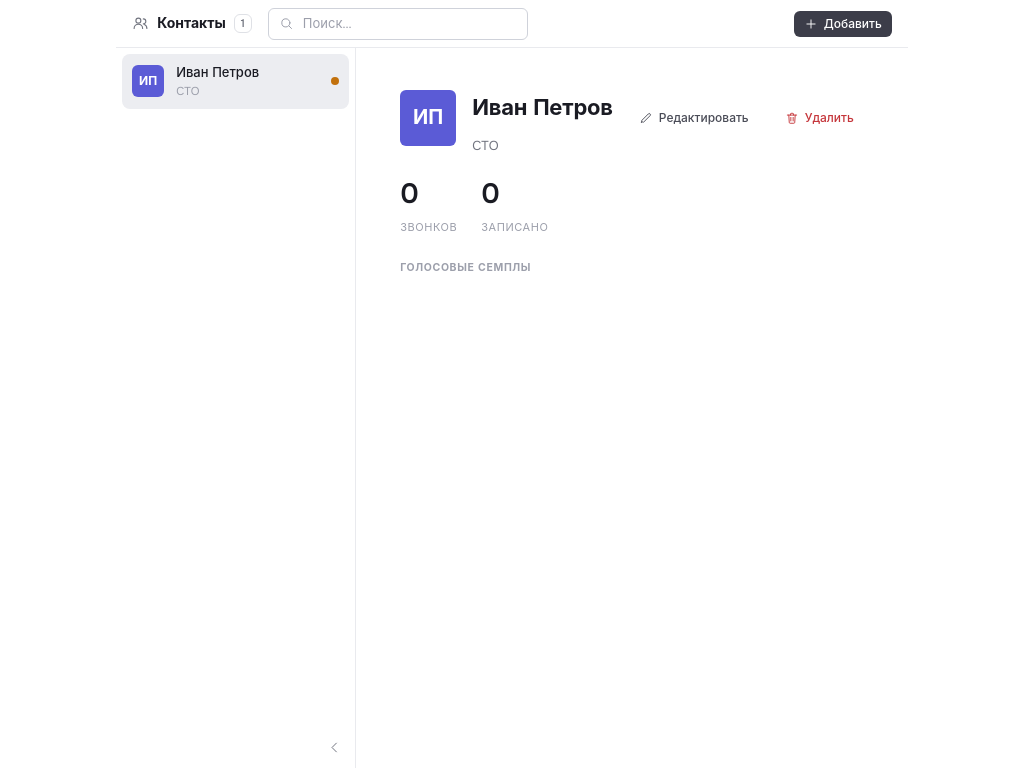
ContactsPage › add button opens dialog «Новый контакт»; no inline form in detail pane
This screenshot has width=1024, height=768.
Check: the text "Иван Петров" is shown, box [176, 64, 259, 81]
Click the button with aria-label "Добавить контакт": (843, 24) [794, 10, 892, 36]
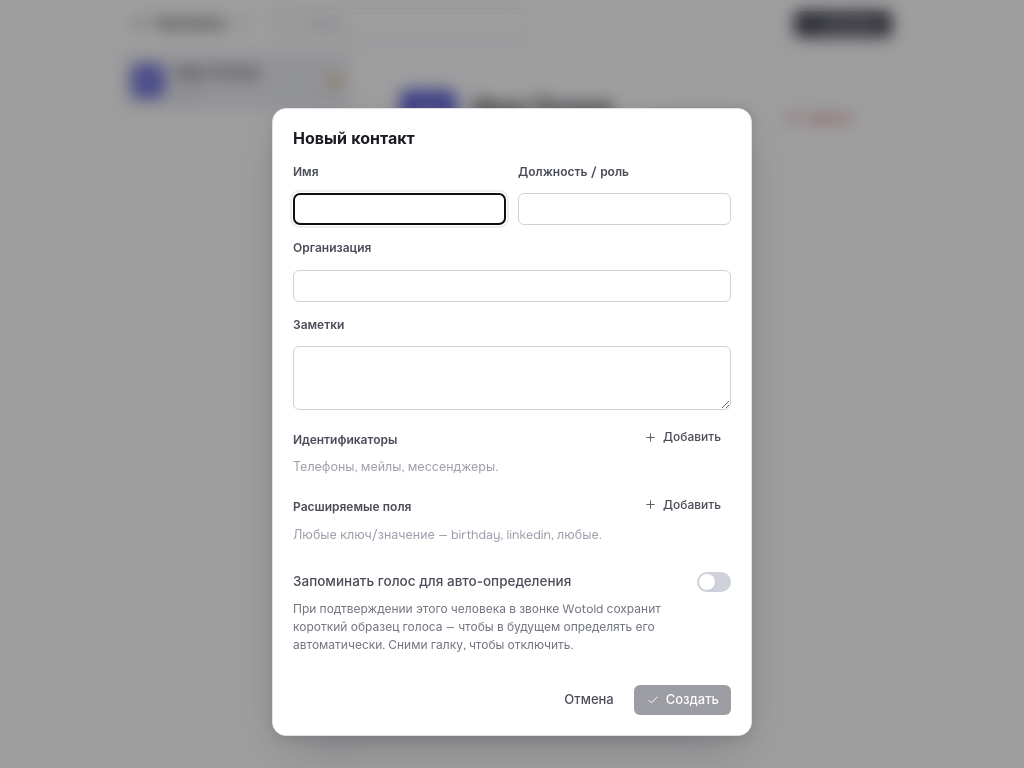
Check: the dialog is shown, box [272, 108, 752, 736]
Check: the text "Новый контакт" is shown, box [293, 128, 415, 148]
